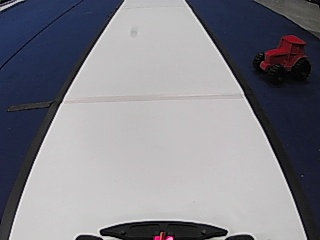tractor: (251, 32, 312, 84)
